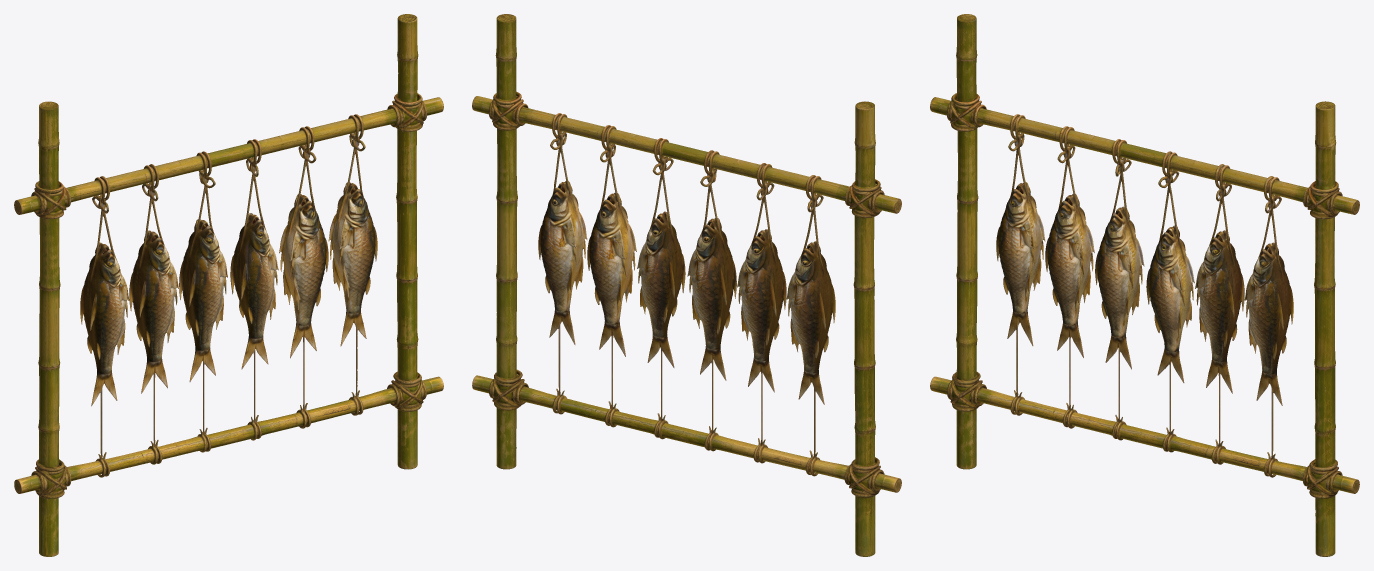
The model's file is fischgestell_original.glb.
3 views of the same model, side by side, from view 1: azimuth 30°, elevation 25°; view 2: azimuth 150°, elevation 25°; view 3: azimuth 330°, elevation 25° (orthographic).
Visible parts, largest first — view 1: mesh_node; view 2: mesh_node; view 3: mesh_node.
Part boxes in pixels (x1,y1,x2,y2): mesh_node: (14, 14, 443, 556); mesh_node: (472, 14, 901, 556); mesh_node: (930, 14, 1359, 556).
Bounding box in the file's own units: 1.88 × 1.9 × 0.1677.
Materials: 1 (1 with a texture image).
